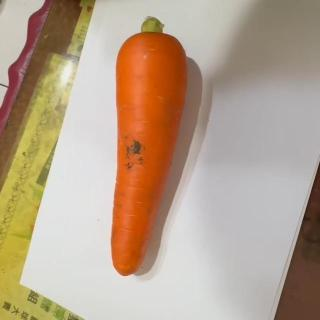carrot: (107, 14, 189, 280)
